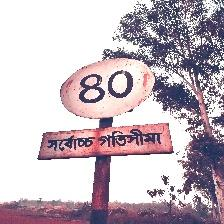Speed-limit: (40, 57, 169, 160)
